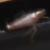cockroach: (5, 8, 46, 32)
